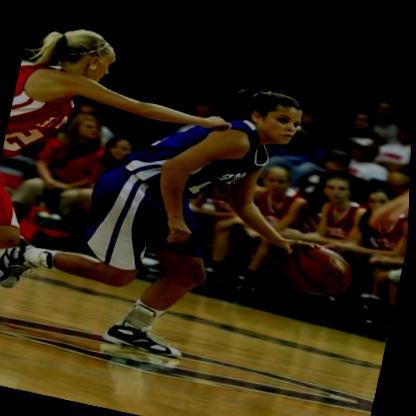basketball: (278, 237, 360, 299)
